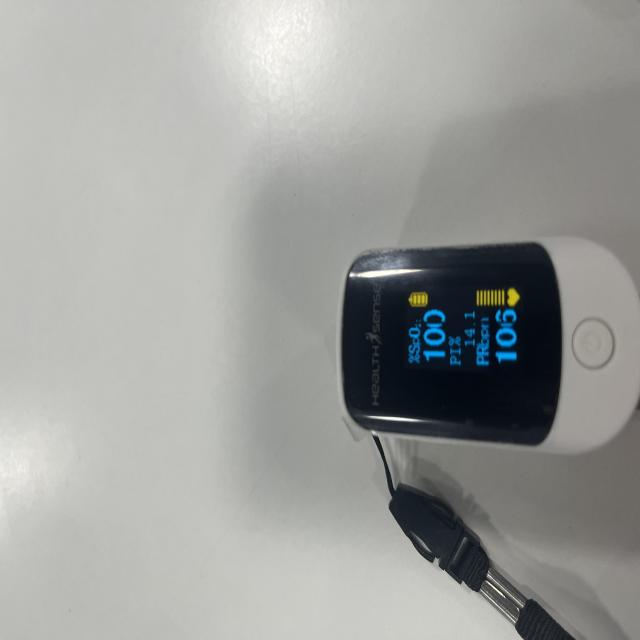spo2: (339, 236, 640, 640)
